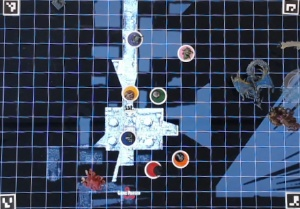blue: (116, 129, 138, 148)
green: (147, 85, 166, 106)
orange: (169, 149, 190, 169)
pink: (175, 43, 196, 63)
red: (143, 158, 165, 179)
violet: (125, 30, 145, 50)
yellow: (120, 83, 140, 102)
